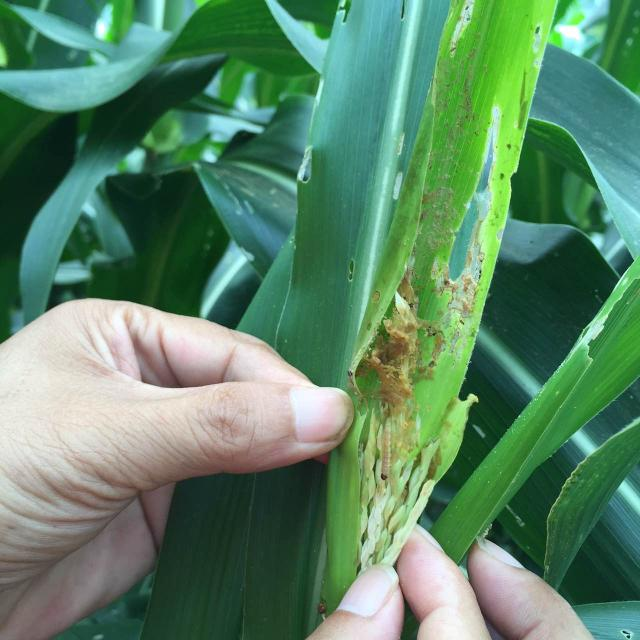pest: (379, 425, 412, 490)
